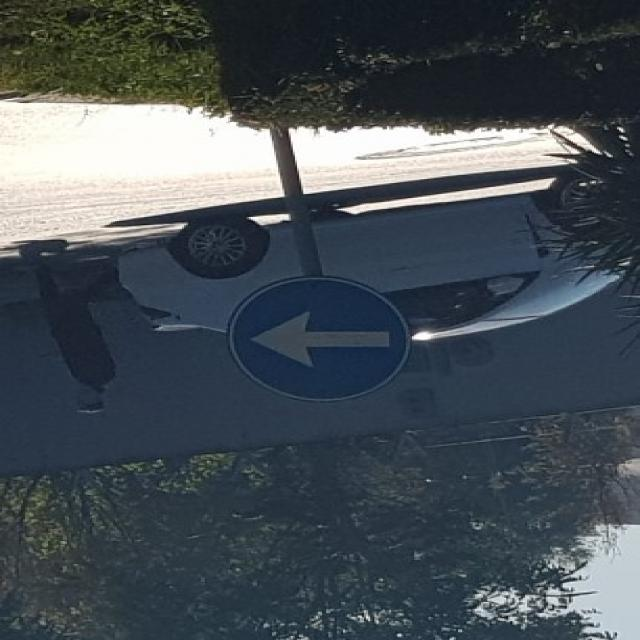Turn Left: (230, 278, 404, 404)
